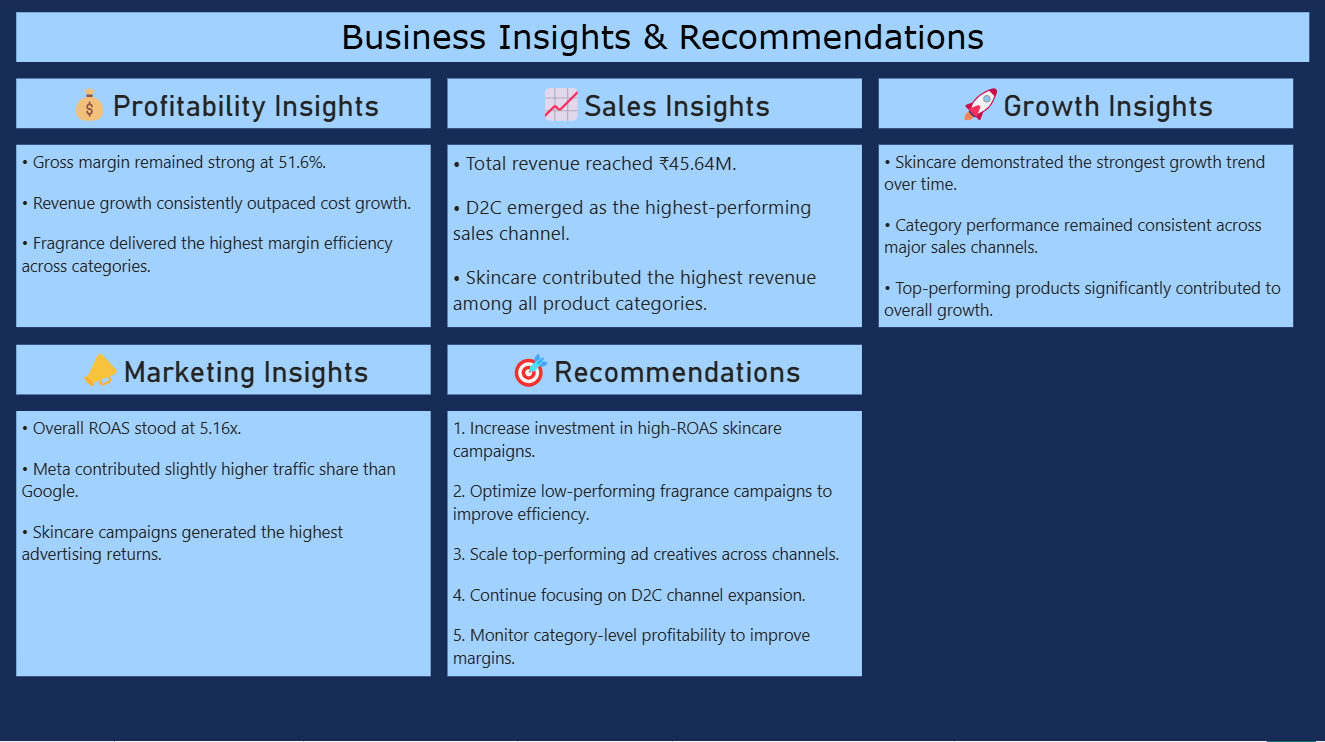

The page's visual inventory and layout, read from the dashboard file:
{"tool":"powerbi","page":{"name":"Business Insights & Recommendations","canvas":[1280,720],"ordinal":4},"visuals":[{"type":"card","fields":{"Values":["KPI_Measures.Title 5"]},"box":[16,16,1248,48],"z":0},{"type":"card","fields":{"Values":["KPI_Measures.Header"]},"box":[432,336,400,48],"z":1000},{"type":"textbox","box":[432,400,400,256],"z":2000},{"type":"card","fields":{"Values":["KPI_Measures.Header Two"]},"box":[432,80,400,48],"z":3000},{"type":"textbox","box":[432,144,400,176],"z":4000},{"type":"card","fields":{"Values":["KPI_Measures.Header Three"]},"box":[848,80,400,48],"z":5000},{"type":"textbox","box":[848,144,400,176],"z":6000},{"type":"card","fields":{"Values":["KPI_Measures.Header Four"]},"box":[16,80,400,48],"z":7000},{"type":"textbox","box":[16,144,400,176],"z":8000},{"type":"card","fields":{"Values":["KPI_Measures.Header 5"]},"box":[16,336,400,48],"z":9000},{"type":"textbox","box":[16,400,400,256],"z":10000}]}

Visuals, with their boxes in screenshot pixels (x1, y1, x2, y2), scaled from the page's 1280x720 canvas onto the 1325x742 screenshot:
card - KPI_Measures.Title 5: select_region(17, 16, 1308, 66)
card - KPI_Measures.Header: select_region(447, 346, 861, 396)
textbox: select_region(447, 412, 861, 676)
card - KPI_Measures.Header Two: select_region(447, 82, 861, 132)
textbox: select_region(447, 148, 861, 330)
card - KPI_Measures.Header Three: select_region(878, 82, 1292, 132)
textbox: select_region(878, 148, 1292, 330)
card - KPI_Measures.Header Four: select_region(17, 82, 431, 132)
textbox: select_region(17, 148, 431, 330)
card - KPI_Measures.Header 5: select_region(17, 346, 431, 396)
textbox: select_region(17, 412, 431, 676)
